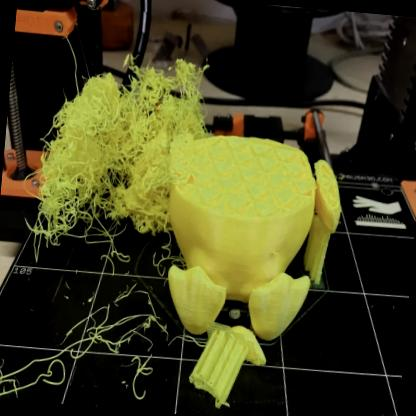fail: (31, 58, 204, 279), (100, 284, 172, 355), (1, 352, 64, 400)
